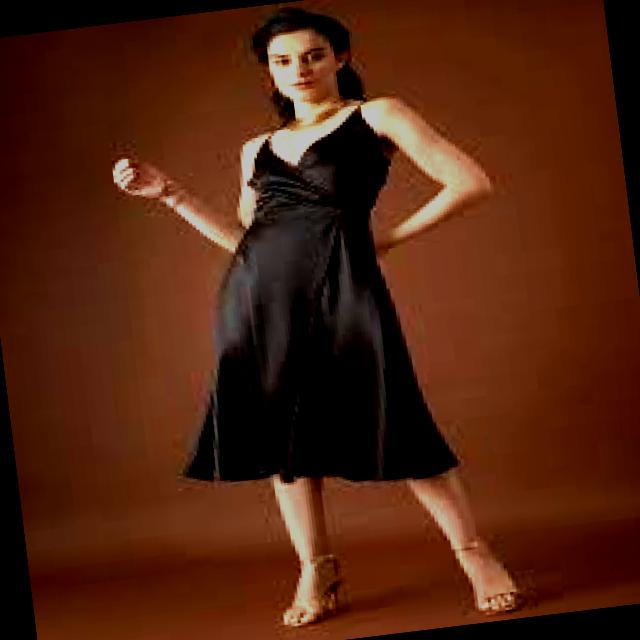dress: (183, 103, 457, 481)
face: (268, 28, 348, 102)
foot-wear: (452, 539, 525, 614), (284, 554, 343, 627)
